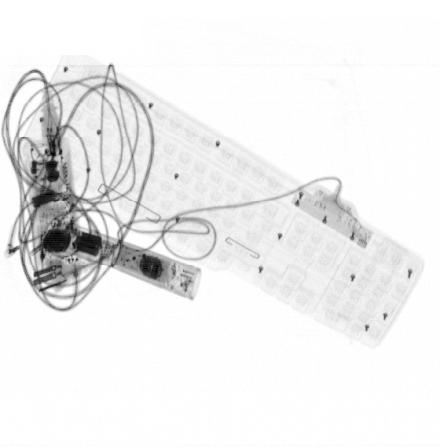Baton: (47, 216, 203, 303)
